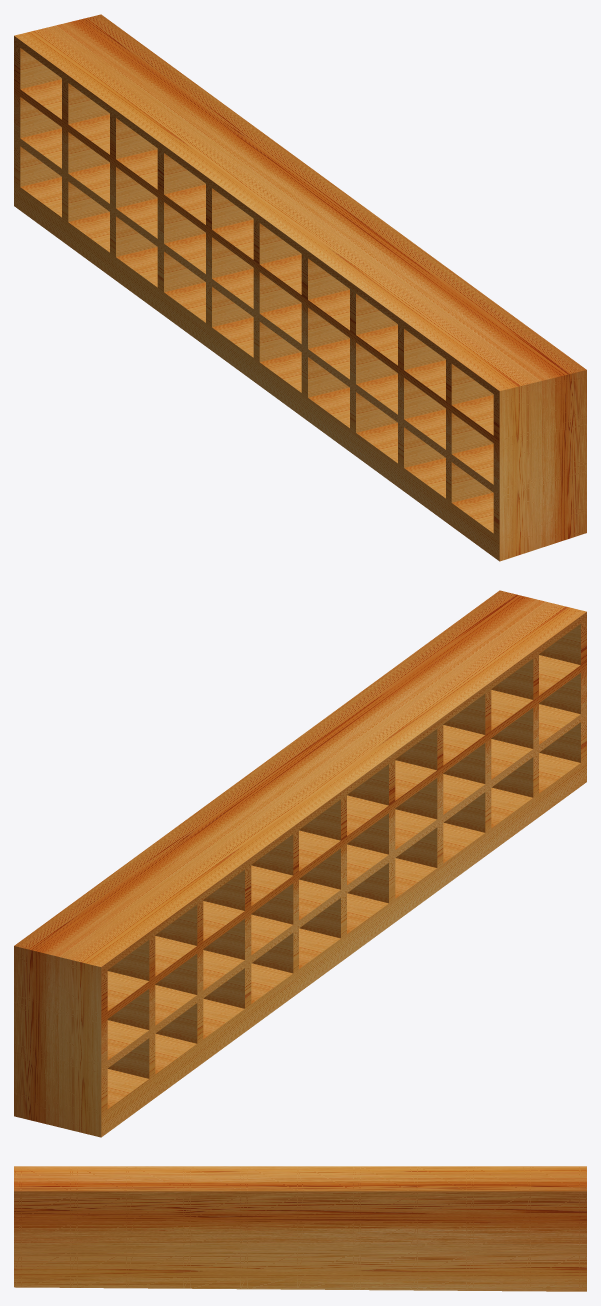
File: Rocker.obj
The picture shows the model from 3 angles, top to bottom: view 1: azimuth 30°, elevation 25°; view 2: azimuth 150°, elevation 25°; view 3: azimuth 270°, elevation 25°; orthographic projection. The views are drawn at different scales.
Parts seen in each view (by area): view 1: Rocker; view 2: Rocker; view 3: Rocker.
Boxes of the visible parts, x1,y1,x2,y2 form: Rocker: [14, 14, 586, 561]; Rocker: [14, 590, 586, 1137]; Rocker: [14, 1166, 586, 1291].
Size of the model in its own units: 1.68 by 3.13 by 16.2.
